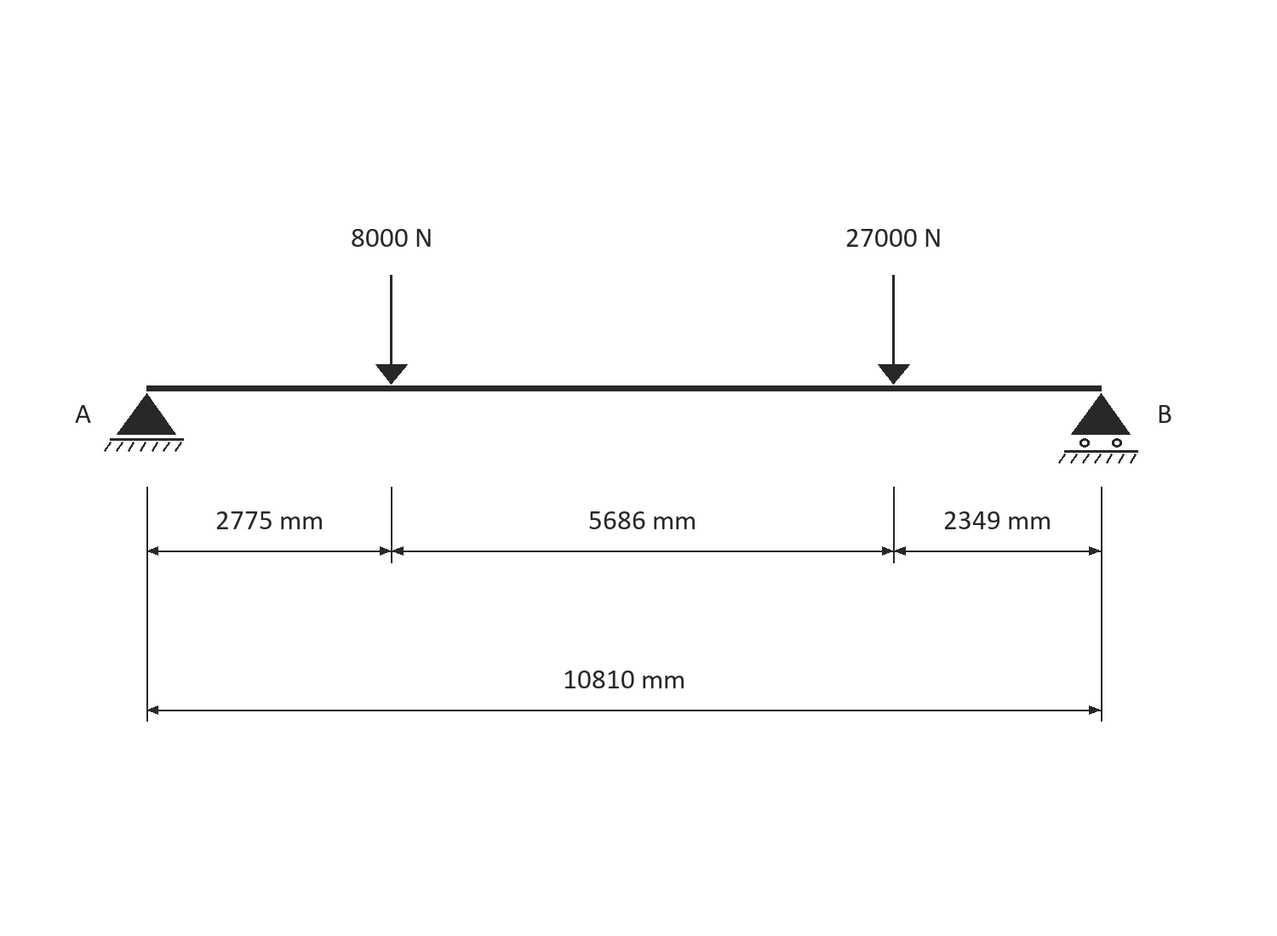pin_support: (104, 393, 184, 452)
point_load: (375, 275, 408, 385), (878, 275, 910, 385)
roller_support: (1058, 393, 1138, 464)
